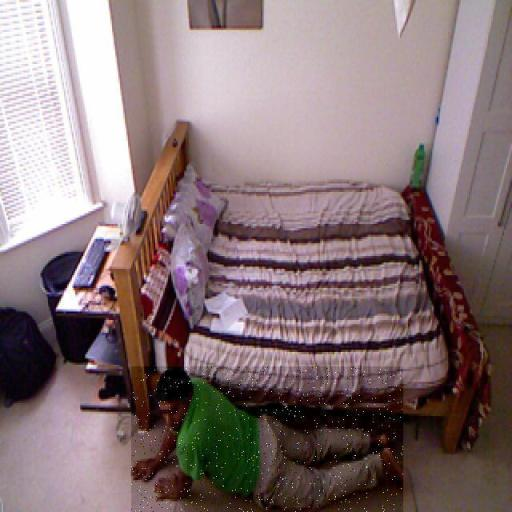Fall: (131, 366, 403, 512)
